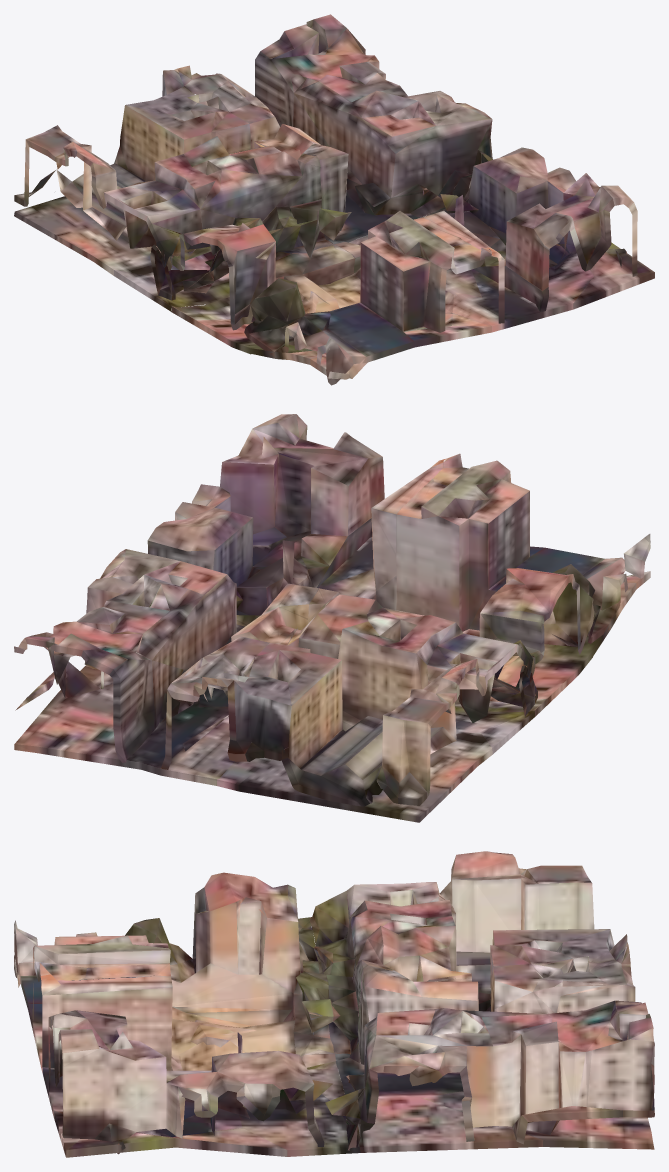
3 views of the same model, one above another, from view 1: azimuth 30°, elevation 25°; view 2: azimuth 150°, elevation 25°; view 3: azimuth 270°, elevation 25° (orthographic). The views are drawn at different scales.
Visible parts, largest first — view 1: Mesh_0; view 2: Mesh_0; view 3: Mesh_0.
Part boxes in pixels (box(x1,y1,x2,y2)): Mesh_0: box(14, 14, 654, 385); Mesh_0: box(14, 414, 650, 822); Mesh_0: box(14, 851, 654, 1157).
Bounding box in the file's own units: 133 × 40.98 × 165.
Materials: 1 (1 with a texture image).
